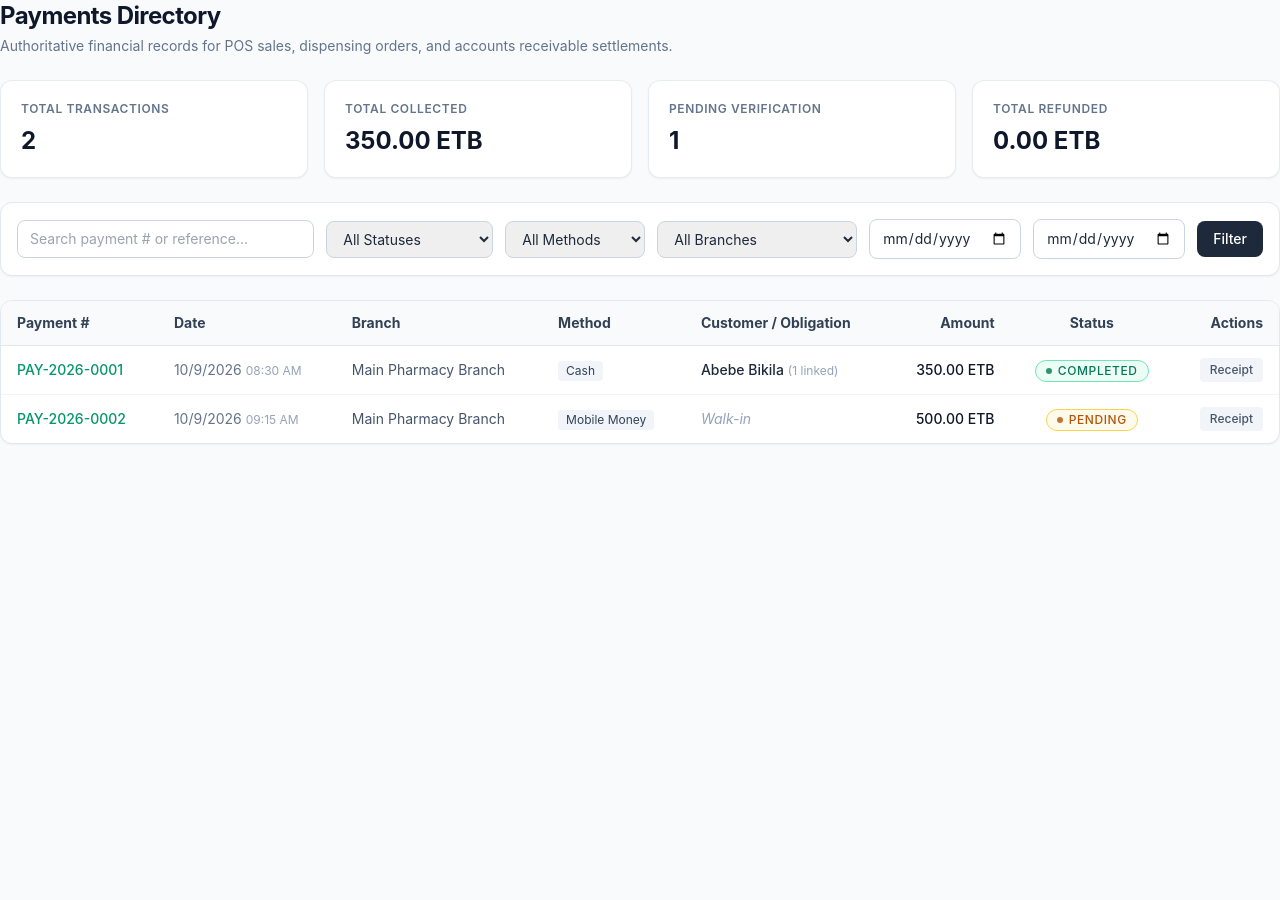
Scenario: Task 13 — Frontend Finance, Payments & Receivables › PaymentsPage: opens receipt modal when Receipt button clicked
Expected: the link "PAY-2026-0001" is shown, 17,361 -> 123,378
Click the button "Receipt" in the row of "PAY-2026-0001" at {"x": 1231, "y": 370}, box 1200,358 -> 1263,382
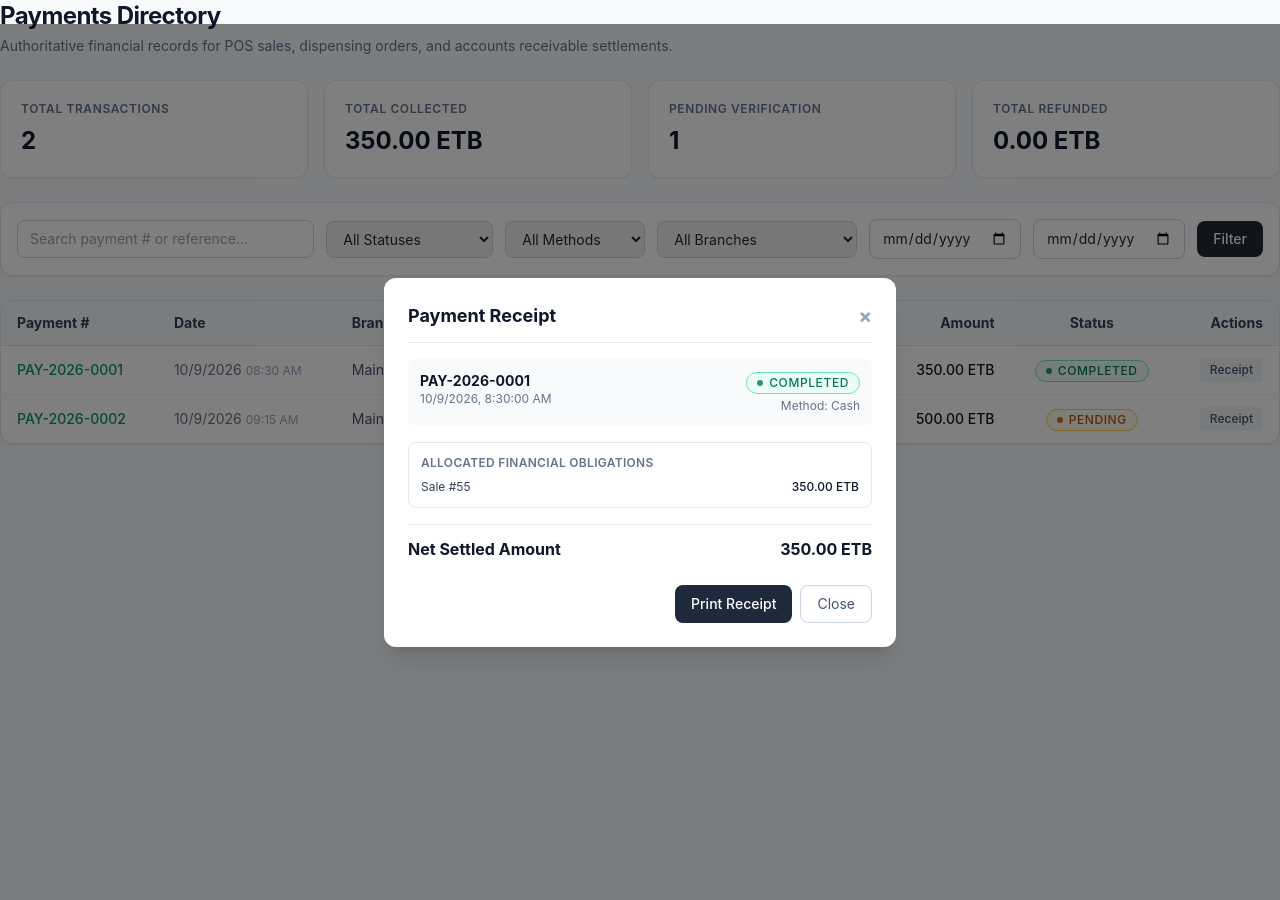
Now the heading "Payment Receipt" is shown, box 408,302 -> 556,330
Now the text "Net Settled Amount" is shown, box 408,536 -> 561,560
